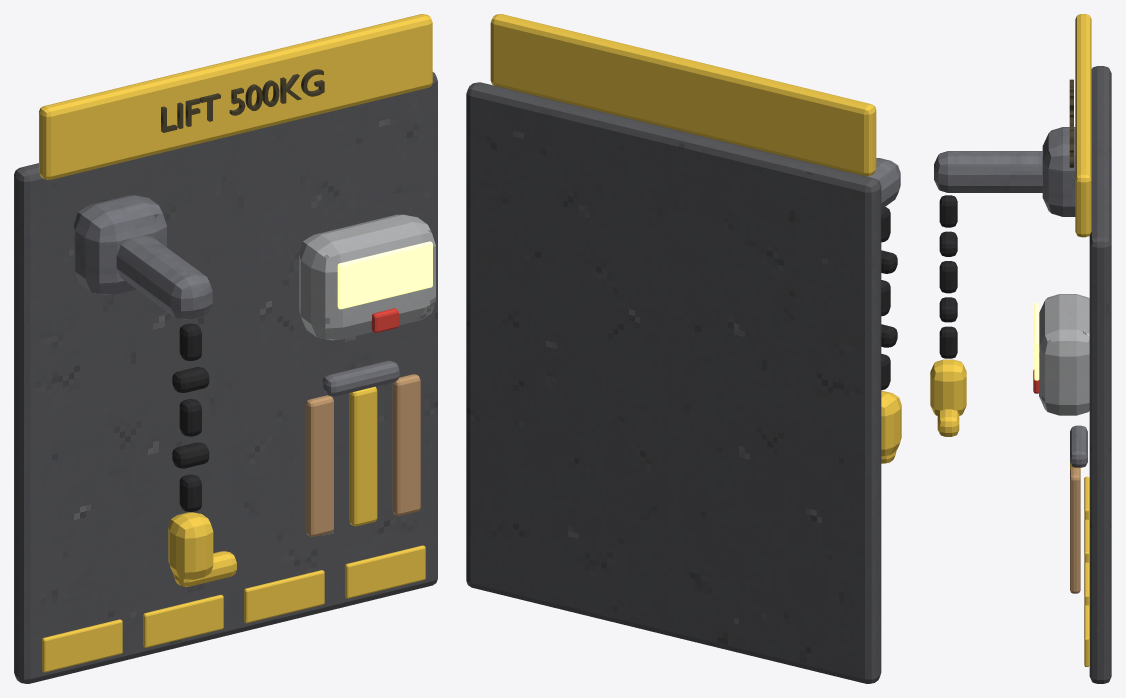
File: decor_cargo_weigh_station.glb
3 renders of one model, left to right at view 1: azimuth 30°, elevation 25°; view 2: azimuth 150°, elevation 25°; view 3: azimuth 270°, elevation 25°, orthographic. The views are drawn at different scales.
Visible parts, largest first — view 1: DEC_CargoWeighStation__Back_Plate, DEC_CargoWeighStation__Hazard_Header, DEC_CargoWeighStation__Load_Cell, DEC_CargoWeighStation__Jib_Bracket, DEC_CargoWeighStation__Jib_Arm, DEC_CargoWeighStation__Load_Readout, DEC_CargoWeighStation__Sling_Strap_3, DEC_CargoWeighStation__Sling_Strap_2, DEC_CargoWeighStation__Sling_Strap_1, DEC_CargoWeighStation__Hazard_Chevron_1, DEC_CargoWeighStation__Hazard_Chevron_4, DEC_CargoWeighStation__Hazard_Chevron_3 (+10 smaller); view 2: DEC_CargoWeighStation__Back_Plate, DEC_CargoWeighStation__Hazard_Header, DEC_CargoWeighStation__Hook_Body, DEC_CargoWeighStation__Jib_Arm; view 3: DEC_CargoWeighStation__Back_Plate, DEC_CargoWeighStation__Load_Cell, DEC_CargoWeighStation__Jib_Arm, DEC_CargoWeighStation__Hazard_Header, DEC_CargoWeighStation__Jib_Bracket, DEC_CargoWeighStation__Hook_Body, DEC_CargoWeighStation__Sling_Strap_3, DEC_CargoWeighStation__Sling_Hook, DEC_CargoWeighStation__Hook_Tip, DEC_CargoWeighStation__Chain_Link_1, DEC_CargoWeighStation__Chain_Link_3, DEC_CargoWeighStation__Chain_Link_5 (+5 smaller).
Boxes of the visible parts, x1,y1,x2,y2 form: DEC_CargoWeighStation__Back_Plate: (14, 72, 437, 683); DEC_CargoWeighStation__Hazard_Header: (39, 14, 432, 179); DEC_CargoWeighStation__Load_Cell: (299, 214, 435, 340); DEC_CargoWeighStation__Jib_Bracket: (73, 195, 166, 294); DEC_CargoWeighStation__Jib_Arm: (116, 235, 212, 319); DEC_CargoWeighStation__Load_Readout: (337, 241, 432, 309); DEC_CargoWeighStation__Sling_Strap_3: (392, 374, 420, 515); DEC_CargoWeighStation__Sling_Strap_2: (349, 386, 377, 526); DEC_CargoWeighStation__Sling_Strap_1: (306, 395, 333, 536); DEC_CargoWeighStation__Hazard_Chevron_1: (42, 619, 122, 672); DEC_CargoWeighStation__Hazard_Chevron_4: (345, 545, 425, 598); DEC_CargoWeighStation__Hazard_Chevron_3: (244, 570, 324, 623); DEC_CargoWeighStation__Back_Plate: (466, 82, 881, 683); DEC_CargoWeighStation__Hazard_Header: (490, 14, 876, 176); DEC_CargoWeighStation__Hook_Body: (881, 390, 901, 456); DEC_CargoWeighStation__Jib_Arm: (868, 158, 900, 209); DEC_CargoWeighStation__Back_Plate: (1089, 66, 1111, 683); DEC_CargoWeighStation__Load_Cell: (1039, 294, 1089, 415); DEC_CargoWeighStation__Jib_Arm: (934, 151, 1042, 192); DEC_CargoWeighStation__Hazard_Header: (1075, 14, 1091, 237); DEC_CargoWeighStation__Jib_Bracket: (1042, 127, 1075, 216); DEC_CargoWeighStation__Hook_Body: (930, 359, 966, 415); DEC_CargoWeighStation__Sling_Strap_3: (1070, 467, 1080, 593); DEC_CargoWeighStation__Sling_Hook: (1070, 425, 1087, 467); DEC_CargoWeighStation__Hook_Tip: (937, 409, 959, 436); DEC_CargoWeighStation__Chain_Link_1: (939, 195, 957, 227); DEC_CargoWeighStation__Chain_Link_3: (939, 261, 957, 293); DEC_CargoWeighStation__Chain_Link_5: (939, 326, 957, 358).
Bounding box in the file's own units: 1.16 × 1.53 × 0.5.
Materials: 9 (4 with a texture image).
